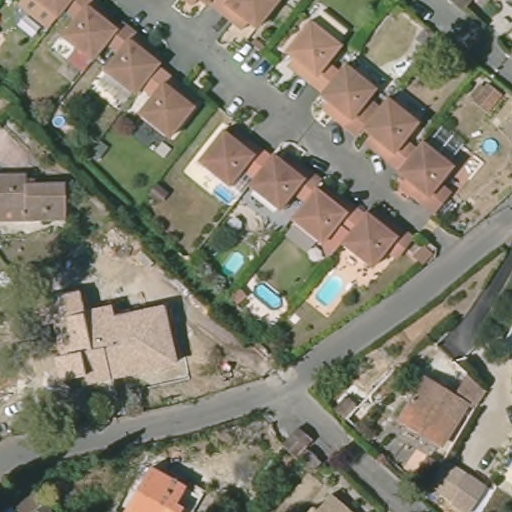pool: (253, 279, 284, 314), (312, 275, 345, 305), (221, 247, 249, 280), (213, 176, 238, 204), (46, 108, 68, 132), (476, 136, 504, 154)
